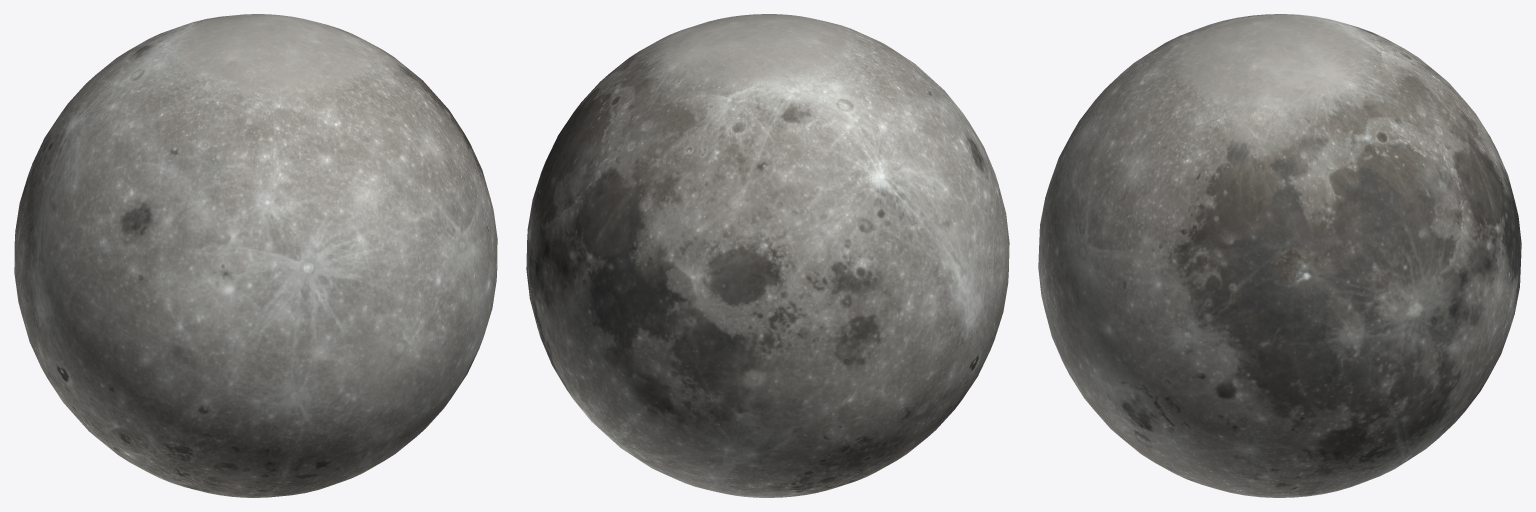
The model's file is Moon_1.obj.
3 renders of one model, left to right at view 1: azimuth 30°, elevation 25°; view 2: azimuth 150°, elevation 25°; view 3: azimuth 270°, elevation 25°, orthographic.
Visible parts, largest first — view 1: Planet_1_Moon_1_Sphere.001; view 2: Planet_1_Moon_1_Sphere.001; view 3: Planet_1_Moon_1_Sphere.001.
Boxes of the visible parts, x1=… form: Planet_1_Moon_1_Sphere.001: x1=14, y1=14, x2=497, y2=497; Planet_1_Moon_1_Sphere.001: x1=526, y1=14, x2=1009, y2=497; Planet_1_Moon_1_Sphere.001: x1=1038, y1=14, x2=1521, y2=497.
Size of the model in its own units: 9.97 by 9.98 by 9.98.
1 material, 1 textured.
